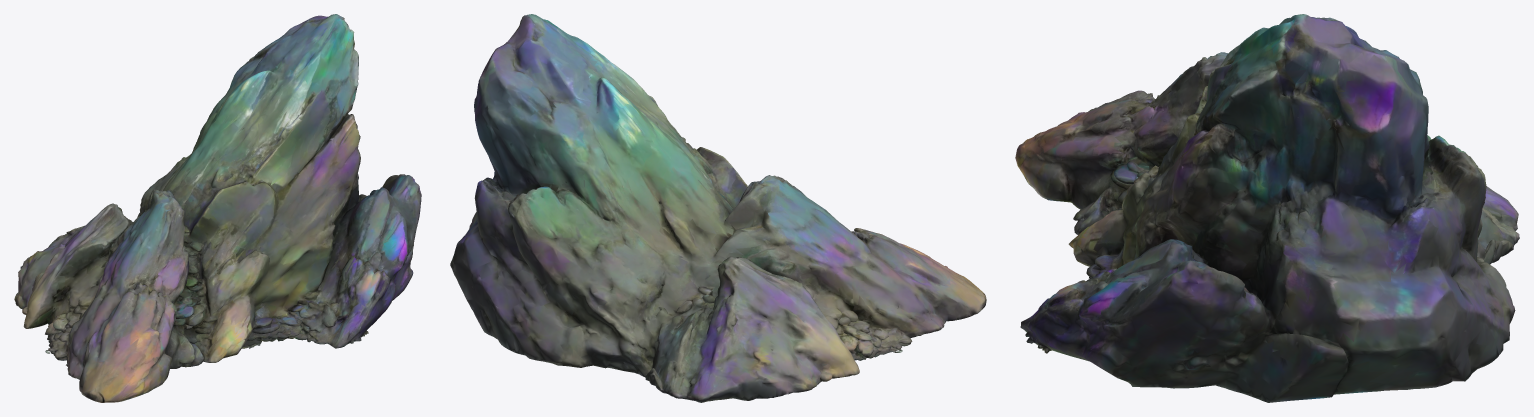
The model's file is Prismatic_Peaks.glb.
The picture shows the model from 3 angles, left to right: view 1: azimuth 30°, elevation 25°; view 2: azimuth 150°, elevation 25°; view 3: azimuth 270°, elevation 25°; orthographic projection. The views are drawn at different scales.
Parts seen in each view (by area): view 1: Prismatic_Peaks; view 2: Prismatic_Peaks; view 3: Prismatic_Peaks.
Boxes of the visible parts, bbox=[...] form: Prismatic_Peaks: bbox=[14, 14, 421, 402]; Prismatic_Peaks: bbox=[450, 14, 986, 402]; Prismatic_Peaks: bbox=[1015, 14, 1519, 402].
Bounding box in the file's own units: 1.9 × 1.2 × 1.46.
Materials: 1 (1 with a texture image).
